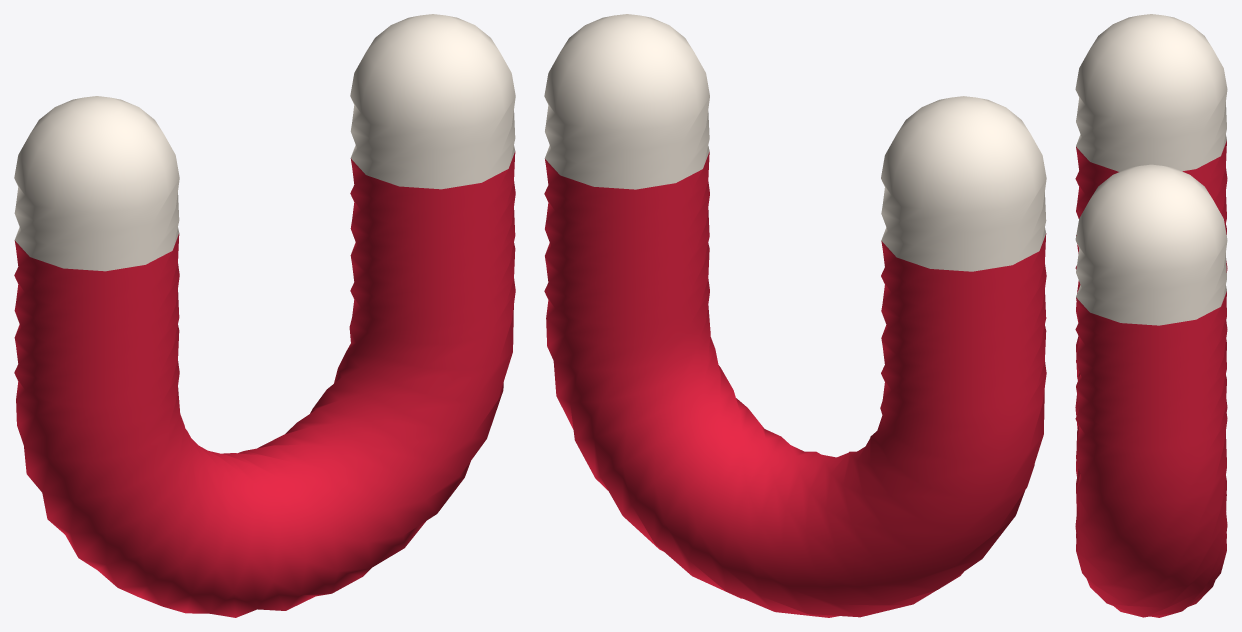
Rendered from magnet-lolly.glb.
3 views of the same model, side by side, from view 1: azimuth 30°, elevation 25°; view 2: azimuth 150°, elevation 25°; view 3: azimuth 270°, elevation 25° (orthographic). The views are drawn at different scales.
Parts seen in each view (by area): view 1: smooth red magnet U; view 2: smooth red magnet U; view 3: smooth red magnet U.
Boxes of the visible parts, x1,y1,x2,y2 form: smooth red magnet U: (14, 14, 515, 617); smooth red magnet U: (544, 14, 1046, 617); smooth red magnet U: (1075, 14, 1227, 617).
Bounding box in the file's own units: 0.428 × 0.464 × 0.128.
